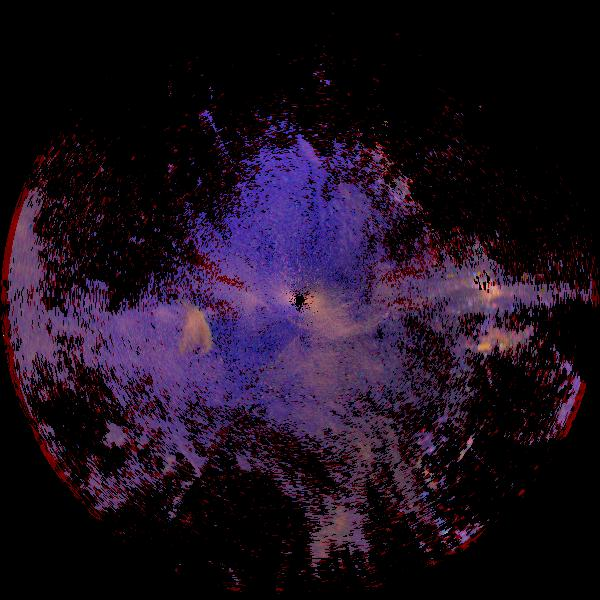roost: (112, 275, 238, 401)
